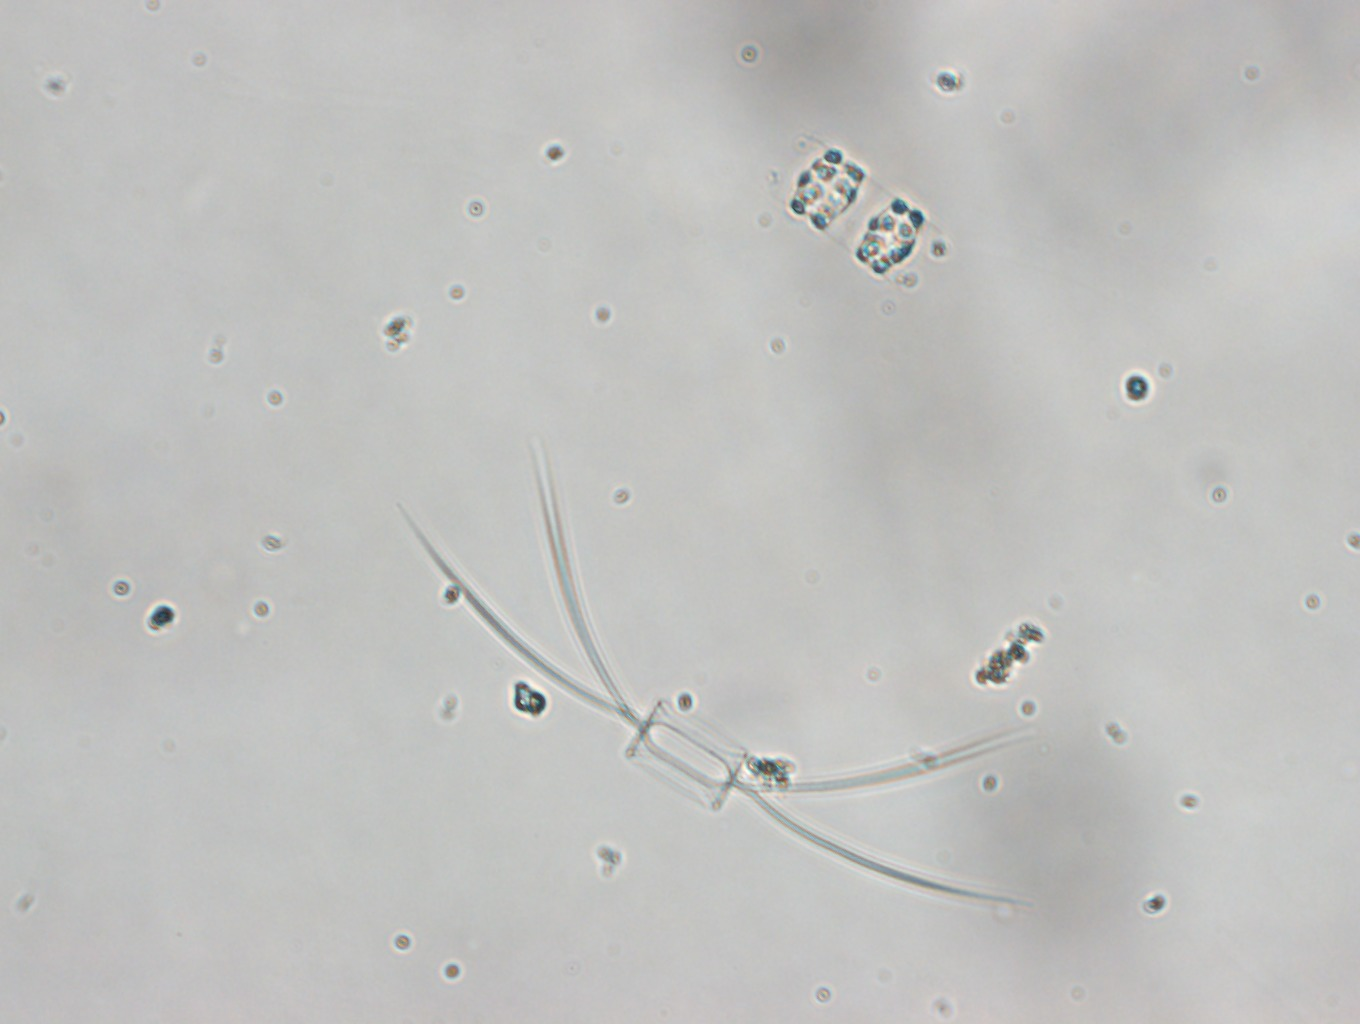chaetoceros: (393, 441, 1022, 901)
skeletonema: (778, 134, 947, 282)
